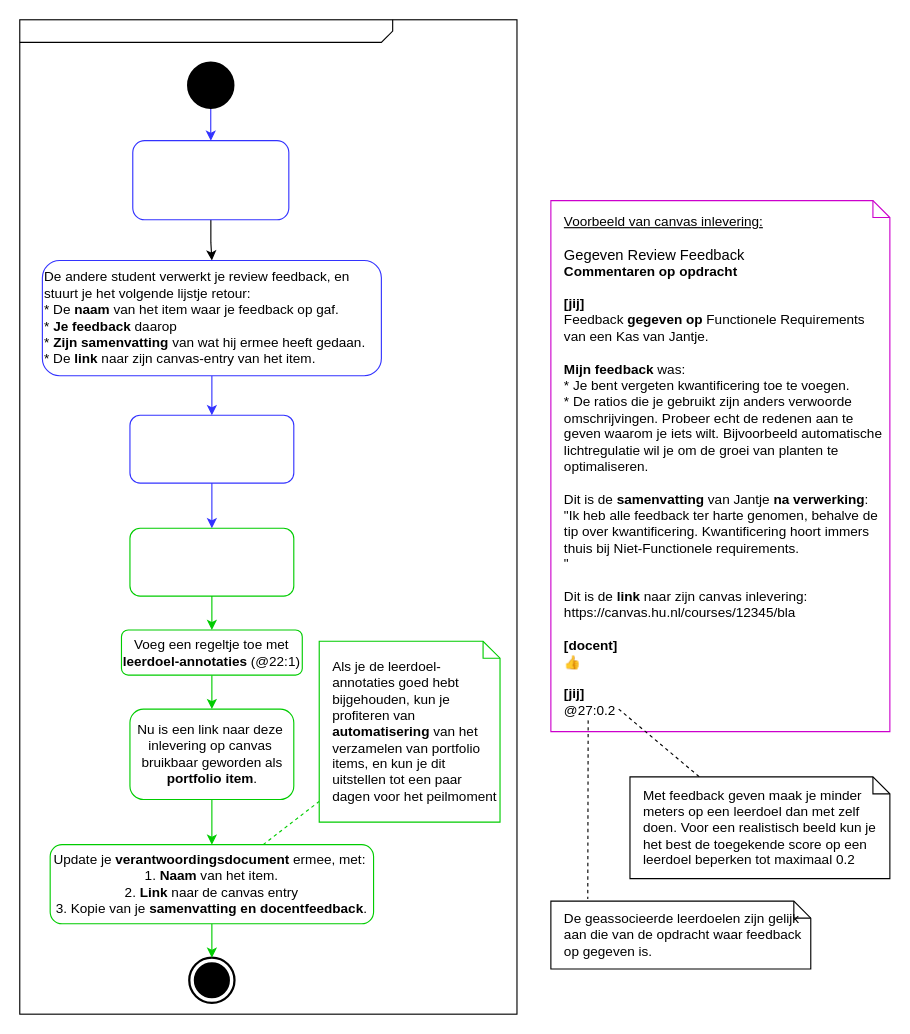
Image size: 910x1034. Some labels were removed from this diagram. The box of each missing label's shape, as (x1, y1, x2, y2) in pixels:
act Portfolio Item maken van gegeven review feedback: (19, 19, 517, 1014)
Copy en paste dat geheel in je canvas opdracht voor gegeven review feeback.: (129, 414, 294, 483)
De docent geeft een thumbs up en evt. additionele feedback.: (129, 527, 294, 596)
Review een inlevering van een andere student, en stuur hem je review feedback .: (132, 140, 289, 220)
